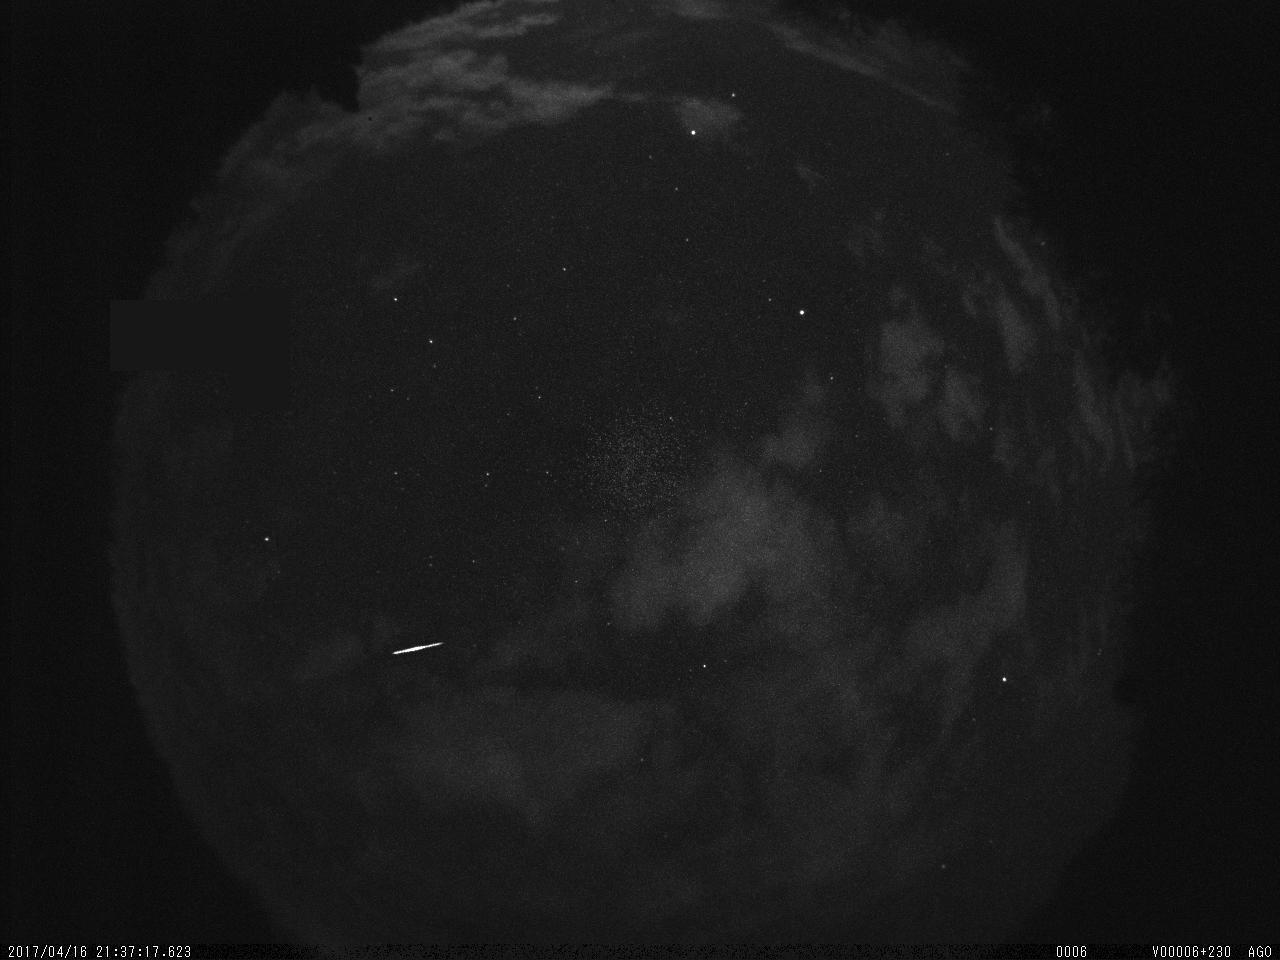meteor: (385, 631, 451, 668)
